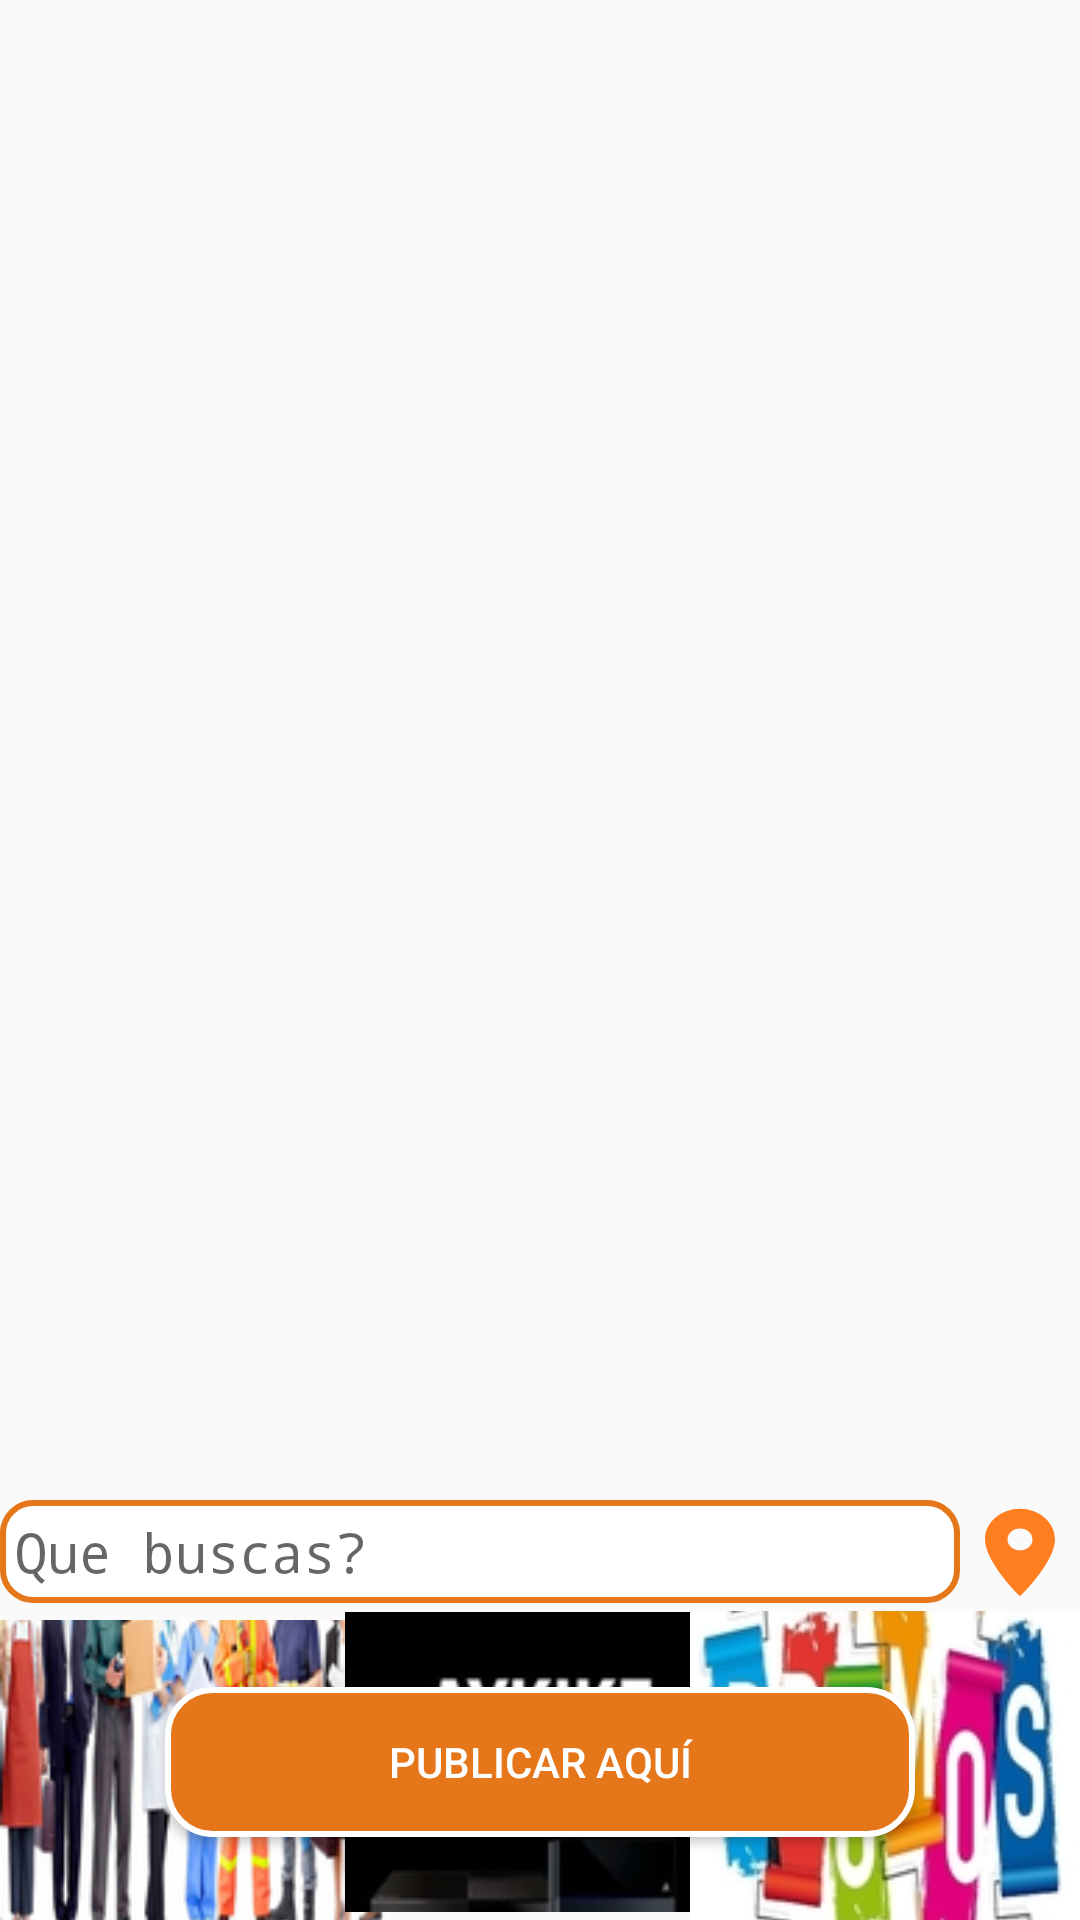

Icons on this 1080w x 1920h Android screen, each with its box as (x1, y1, x2, y2):
location: (985, 1508, 1055, 1596)
